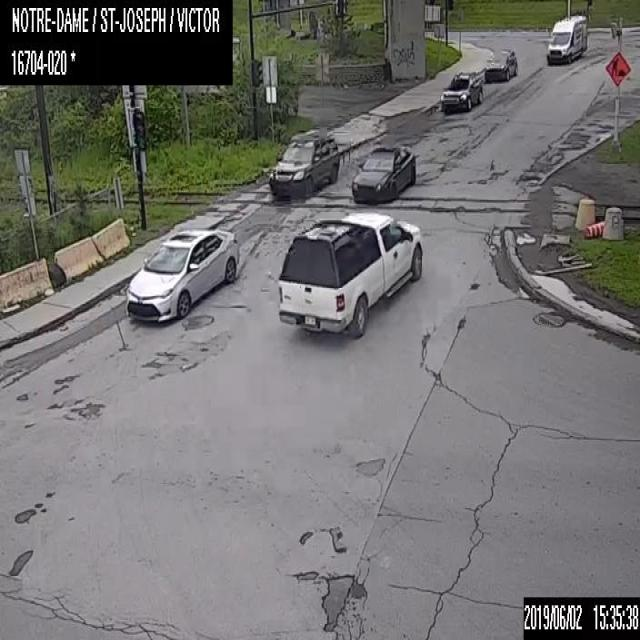construction: (604, 50, 632, 85), (584, 220, 603, 238)
vehicle: (277, 211, 423, 337), (125, 228, 238, 323), (268, 130, 339, 198), (350, 144, 415, 203), (546, 14, 586, 64), (440, 71, 483, 114), (483, 48, 518, 82)
